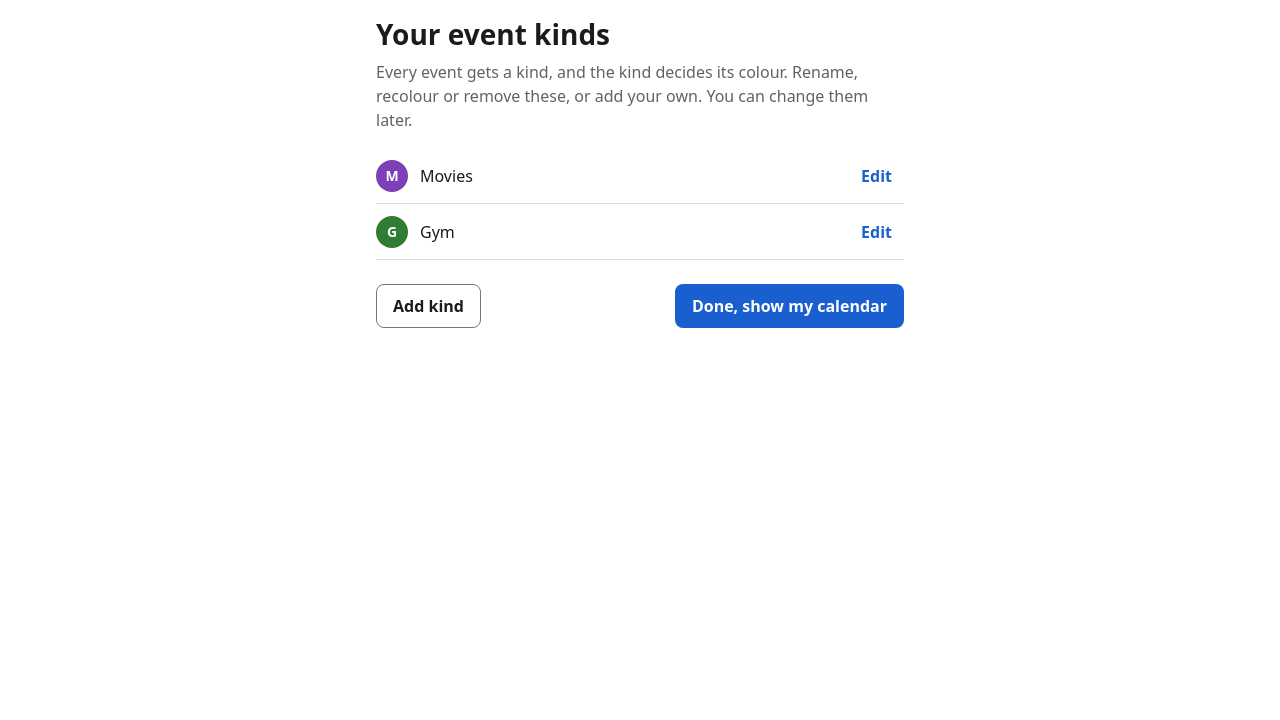
Test: the walkthrough page (AC-1, Block 6) › opens the editor for a row's kind when its Edit button is pressed
Click the button with aria-label "Edit Gym" at (877, 232), box [849, 210, 904, 254]
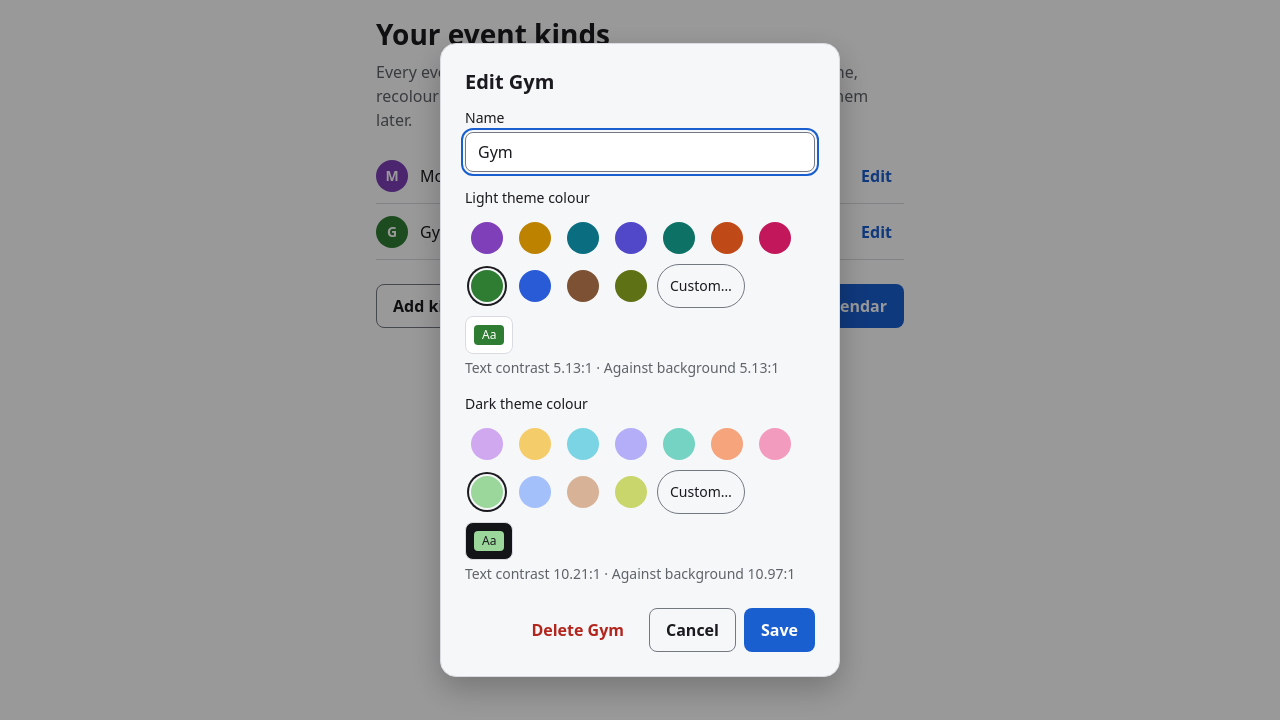
Check: the field labelled "Name" holds "Gym", box [465, 132, 815, 172]
